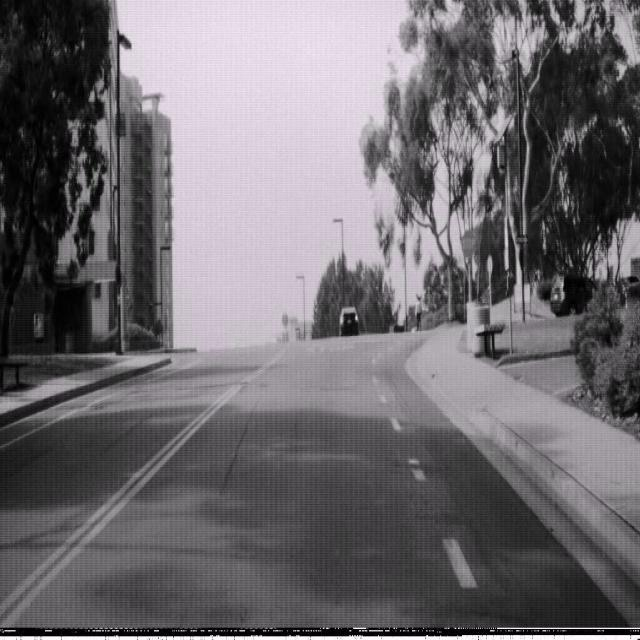stop: (461, 228, 476, 260)
